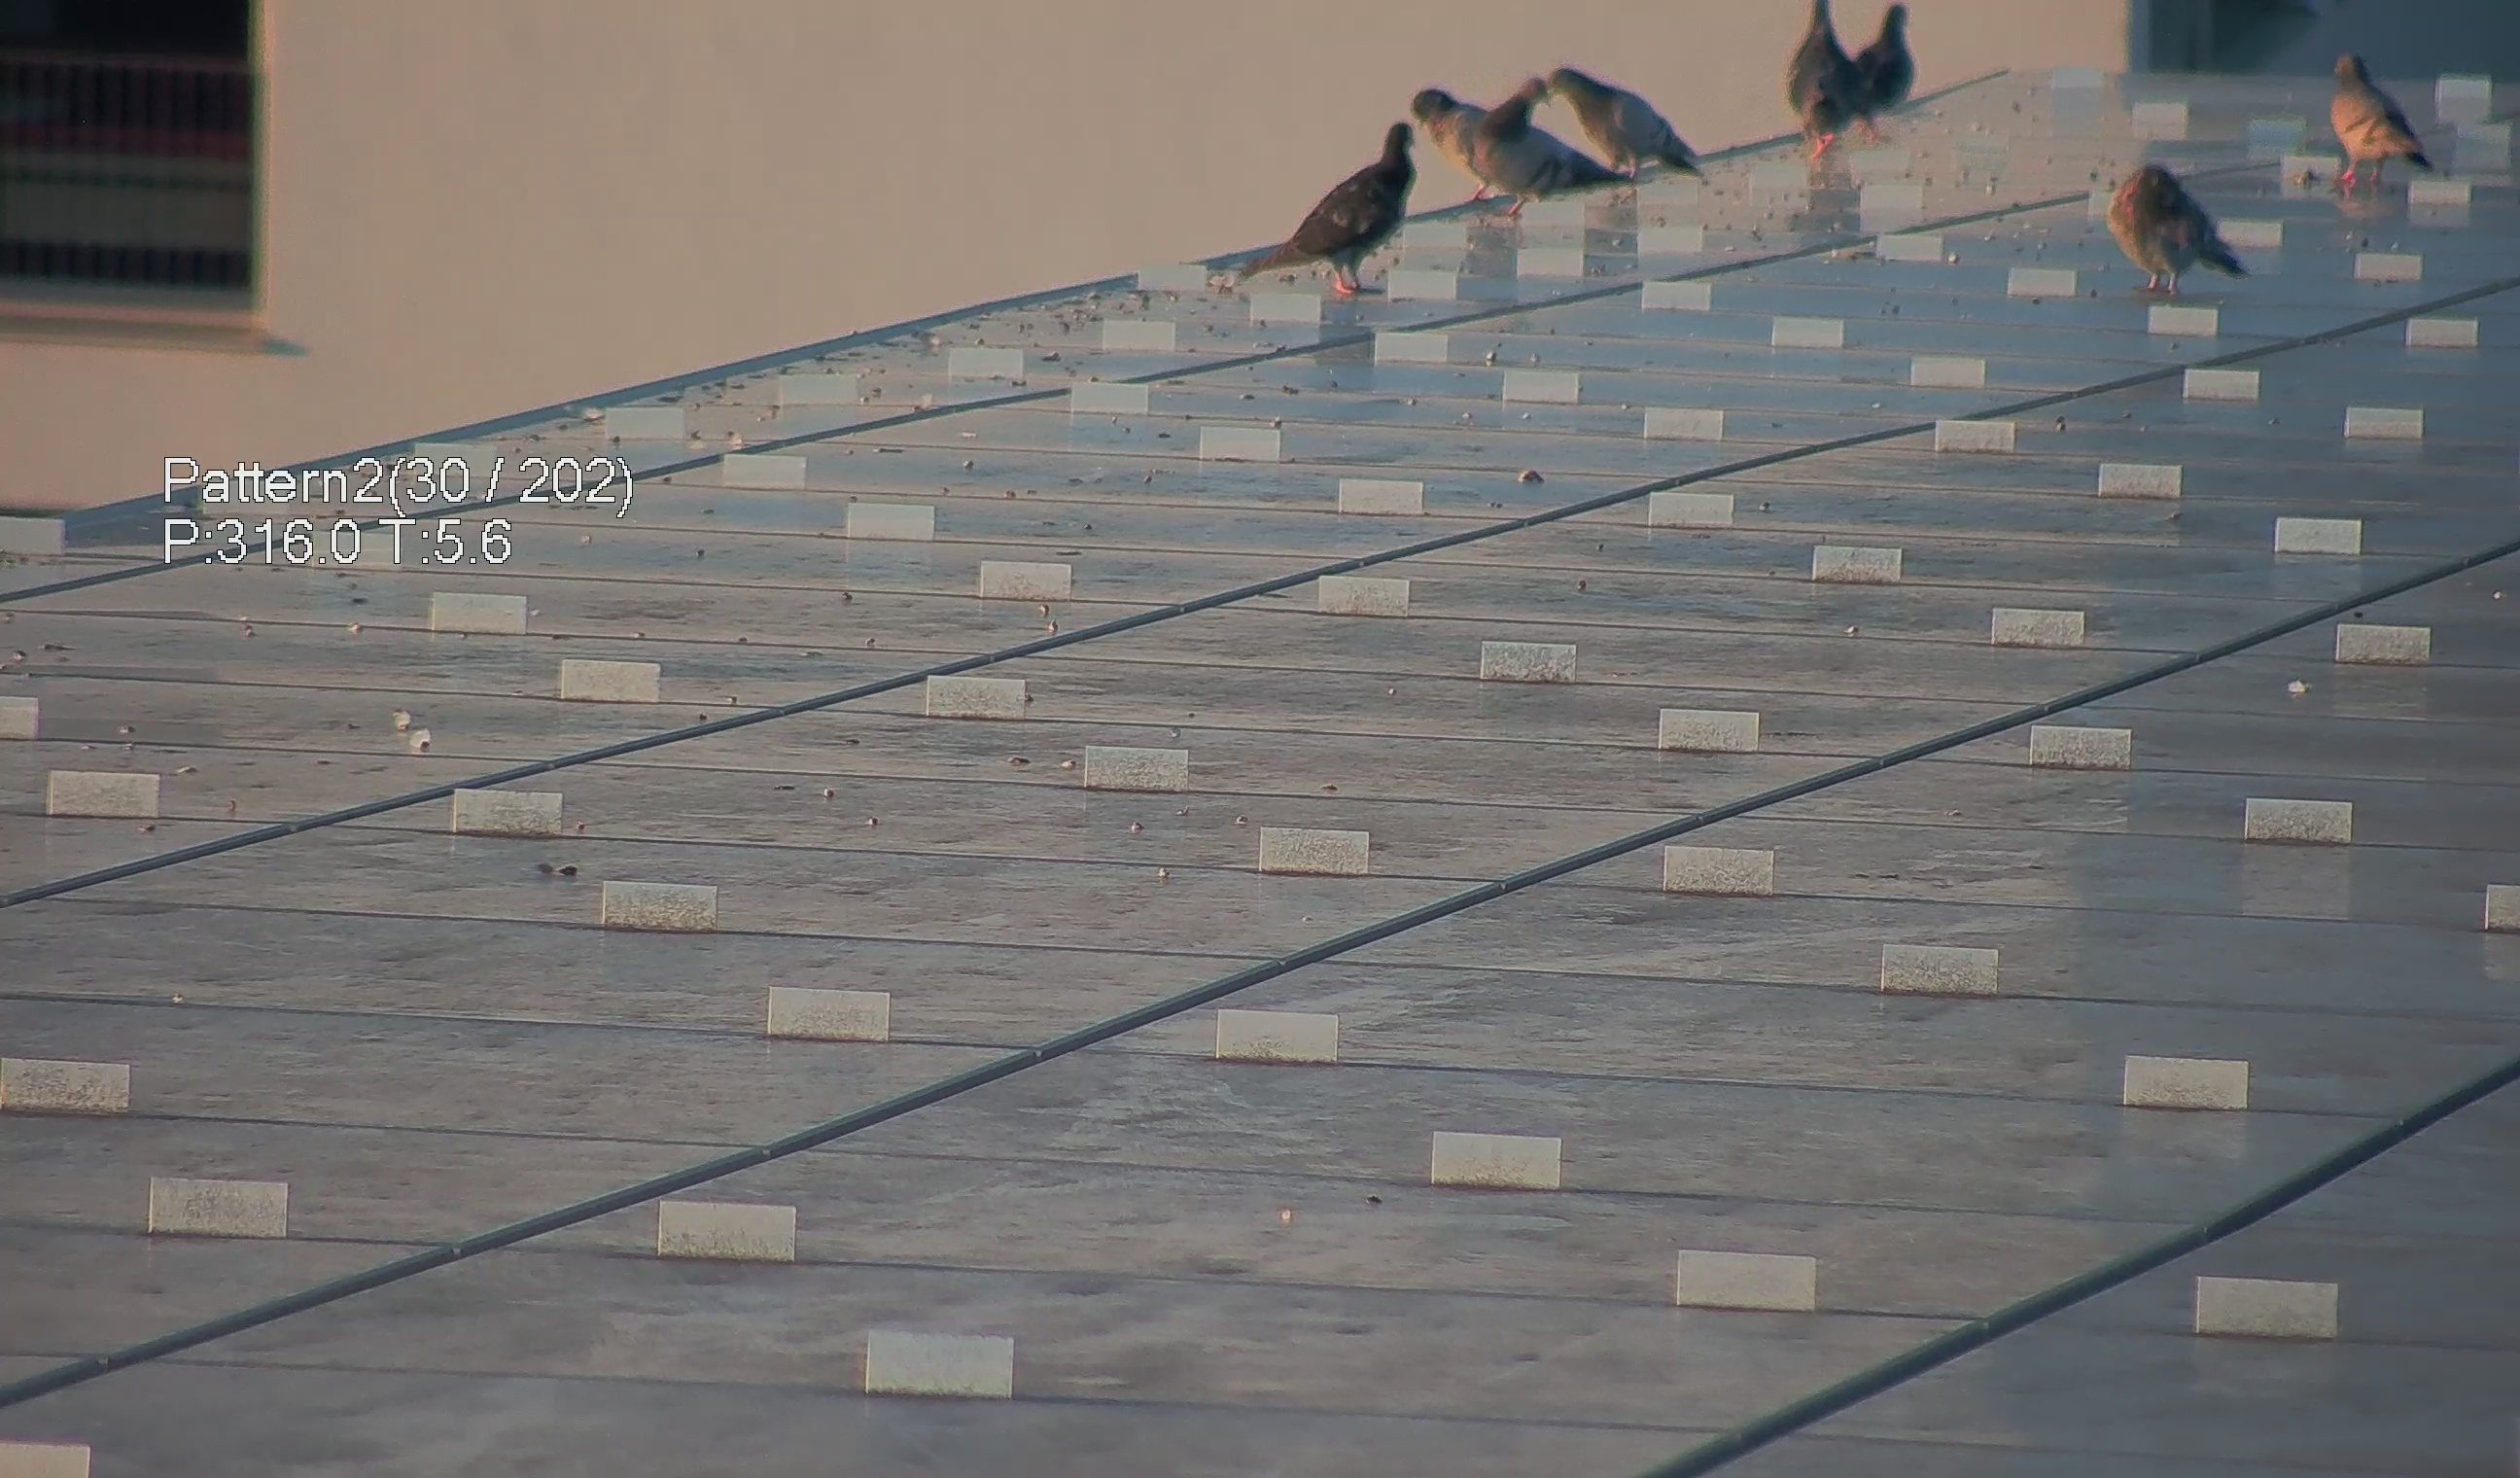Pigeon: (1224, 104, 1438, 294), (2108, 141, 2267, 303), (1417, 97, 1623, 199), (2318, 37, 2444, 195), (1549, 63, 1716, 181), (1834, 2, 1920, 146), (1776, 2, 1852, 160)
